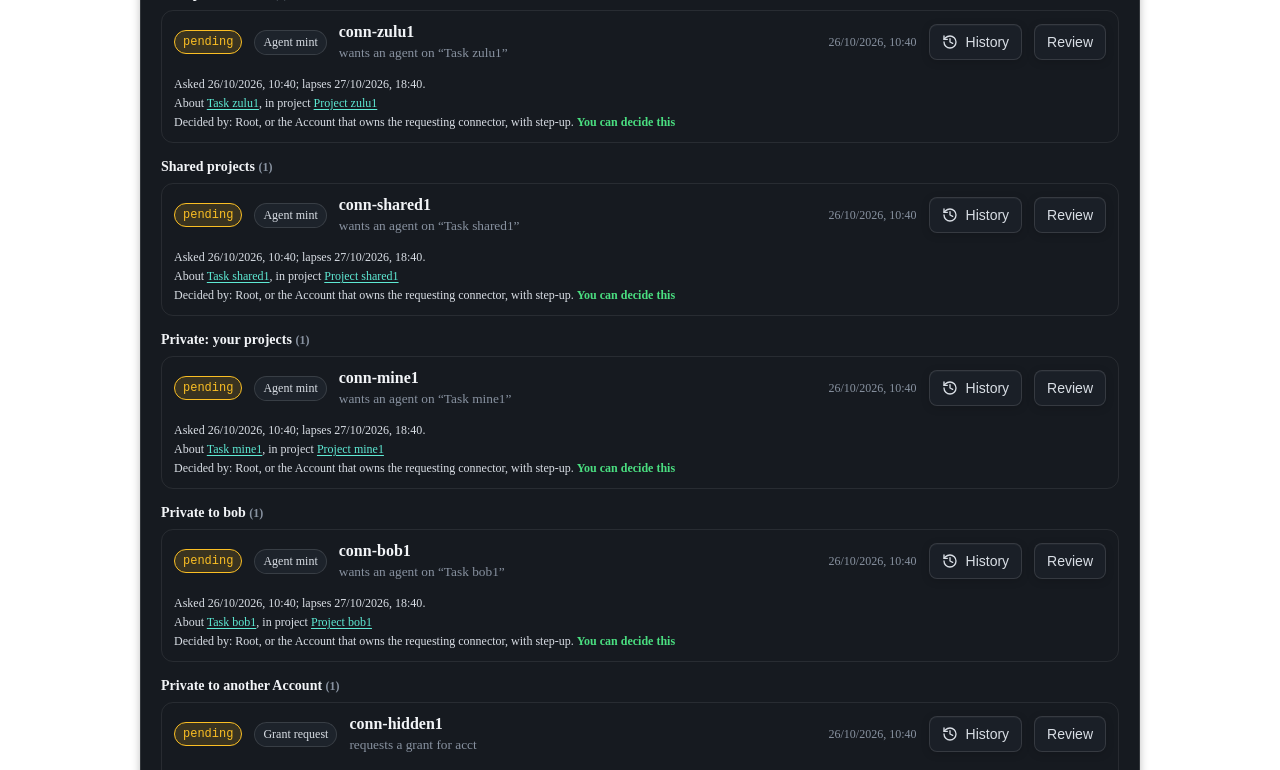
Test case: the notification centre's Approvals tab is this hub (owner E84, card e2dd52b8 Part A) › Review offers the existing decide flow, and Approve asks for step-up before anything is decided
(page scrolled)
Click the button "Review" in the row of "wants an agent on “Task mine1”": (1070, 388) [1034,370,1106,406]
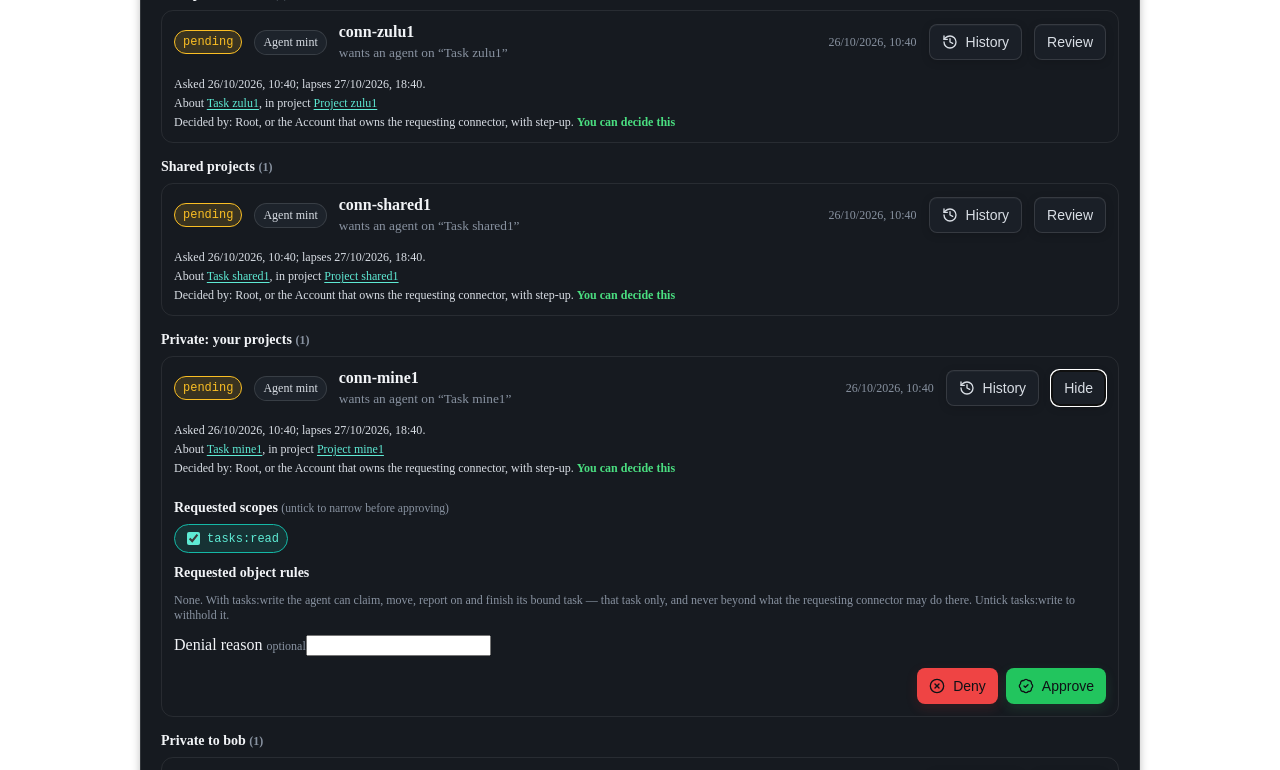
Expected: the button "Deny" is shown, [917,668,998,704]
Click the button "Approve": (1056, 686) [1006,668,1106,704]
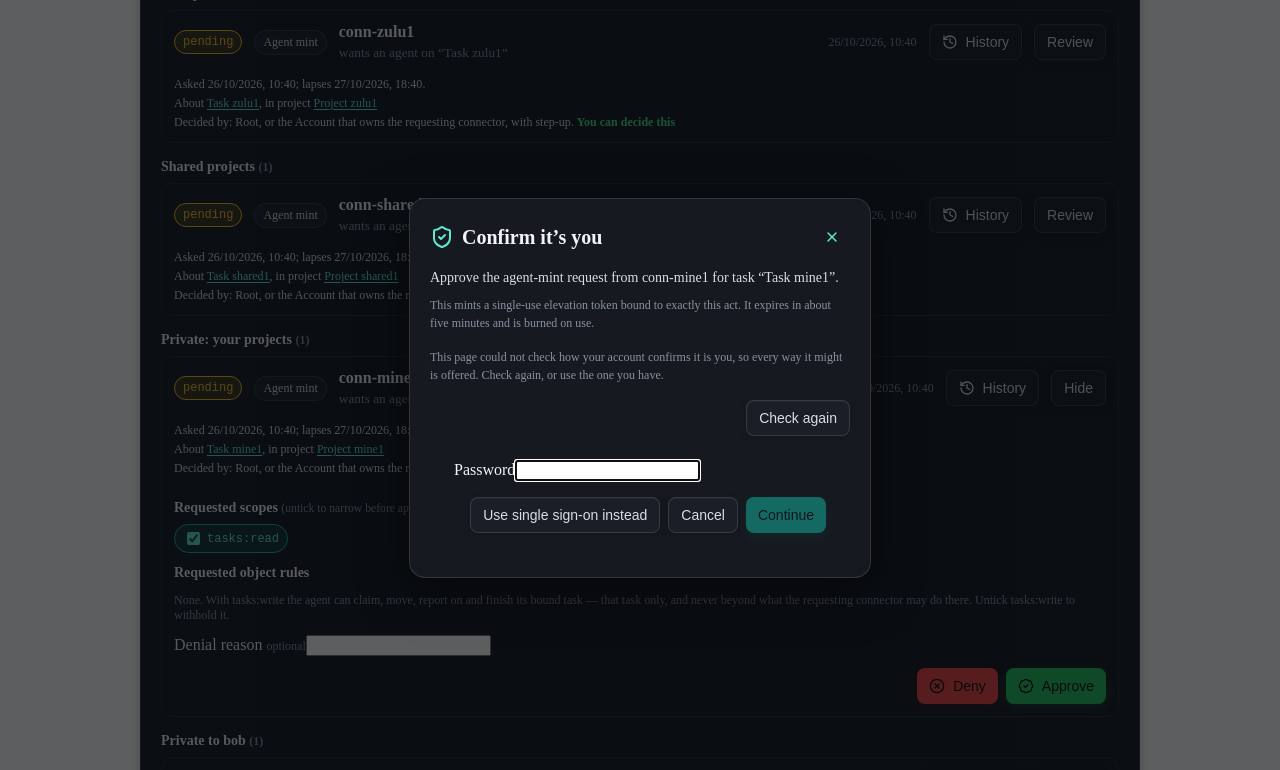
Expected: the dialog named "Confirm it.s you" shows "Approve the agent-mint request from conn-mine1 for task “Task mine1”.", [430,270,839,285]
